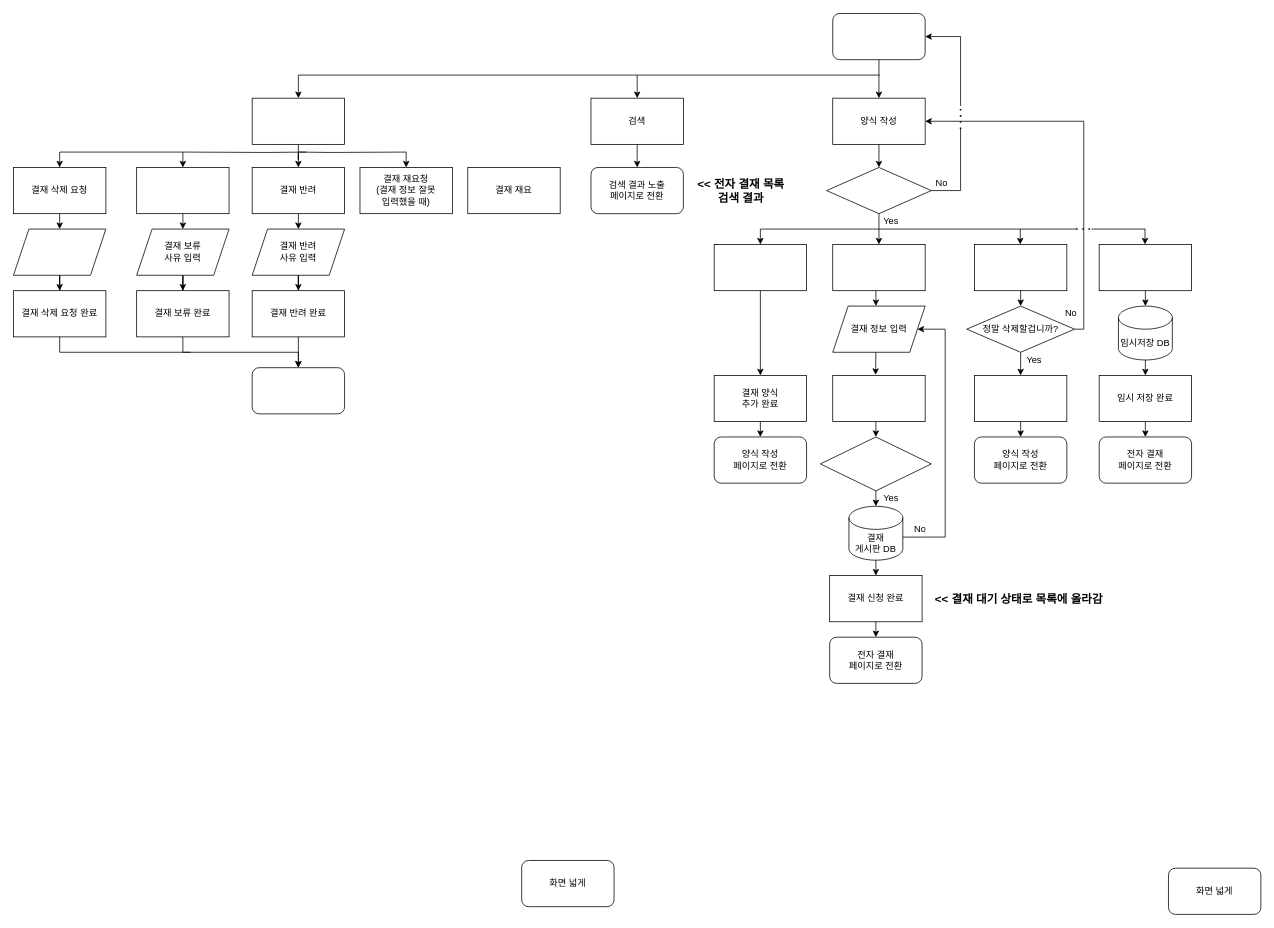
The diagram is 1274 pixels wide and 928 high, and some of its shapes have lost their labels. Here are the shapes that lost their labels. From the top down, the centre of each, then its label:
pixel 878 36: 전자 결재 페이지 진입
pixel 298 120: 결재 목록
pixel 182 190: 결재 보류
pixel 878 190: 취소 안하고 계속 작성할건가?
pixel 59 251: 결재 삭제 요청 사유 입력
pixel 760 267: 결재 양식 추가
pixel 878 267: 결재 양식 선택
pixel 1020 267: 결재 양식 삭제
pixel 1145 267: 임시 저장
pixel 298 390: 결재 목록 페이지로 전환
pixel 878 398: 결재 신청
pixel 1020 398: 결재 양식 삭제 완료
pixel 875 463: 정보를 빠짐없이,올바르게 적었나?
